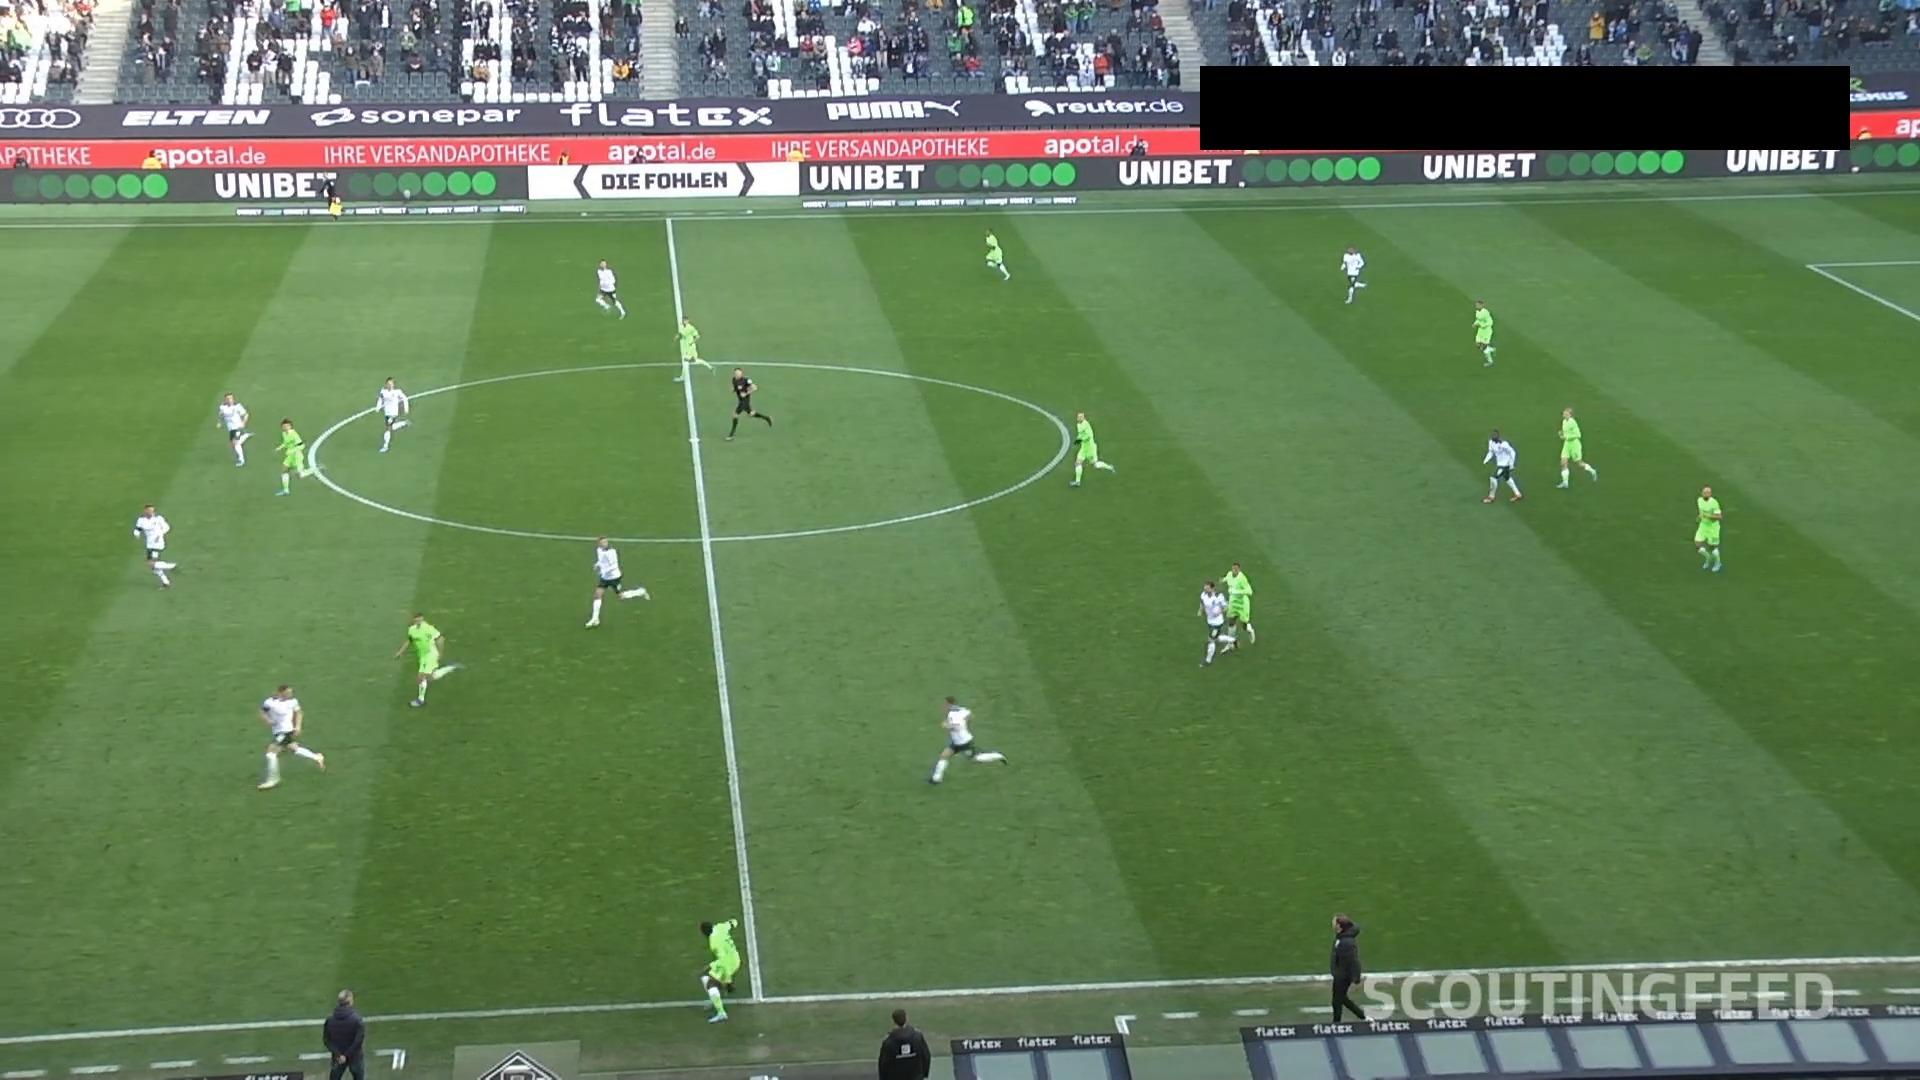coach: (1328, 912, 1366, 1023), (322, 987, 366, 1078)
player: (256, 683, 326, 789), (928, 694, 1008, 784), (584, 535, 650, 628), (392, 611, 444, 707), (698, 917, 740, 1022), (132, 503, 177, 588), (1196, 579, 1237, 667), (1555, 406, 1597, 489), (1068, 411, 1114, 486), (1480, 427, 1522, 503), (1218, 562, 1255, 647), (373, 375, 410, 452), (215, 392, 252, 467), (273, 417, 307, 495), (1693, 484, 1723, 572), (672, 315, 712, 378), (593, 258, 625, 319), (1471, 299, 1495, 366), (1339, 245, 1366, 304), (983, 227, 1010, 281)
referee: (877, 1007, 931, 1078), (724, 366, 772, 441), (313, 169, 343, 220)
